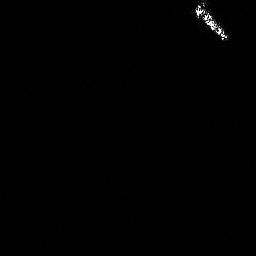ship: (193, 1, 231, 43)
